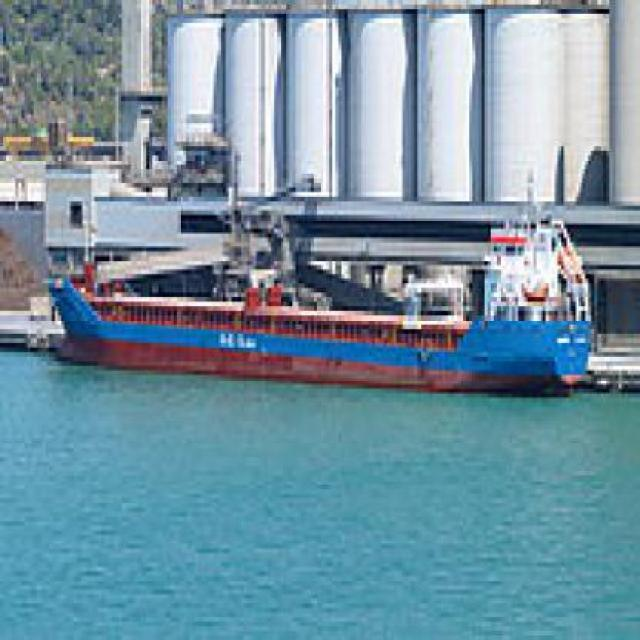container: (34, 253, 602, 404)
